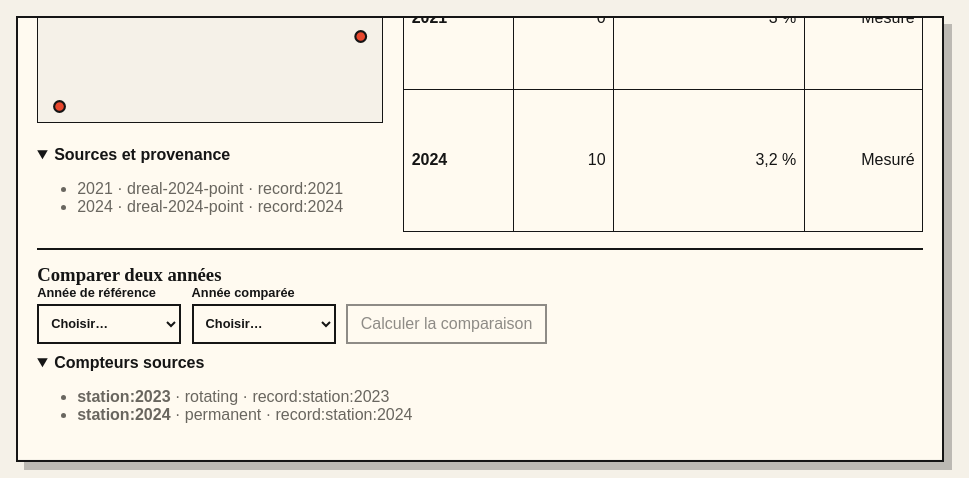
Test case: BottomSheet › reports a non-calculable percentage for a zero baseline
(page scrolled)
Select "2021" in the dropdown labelled "Année de référence" at (109, 324), box [37,304,181,344]
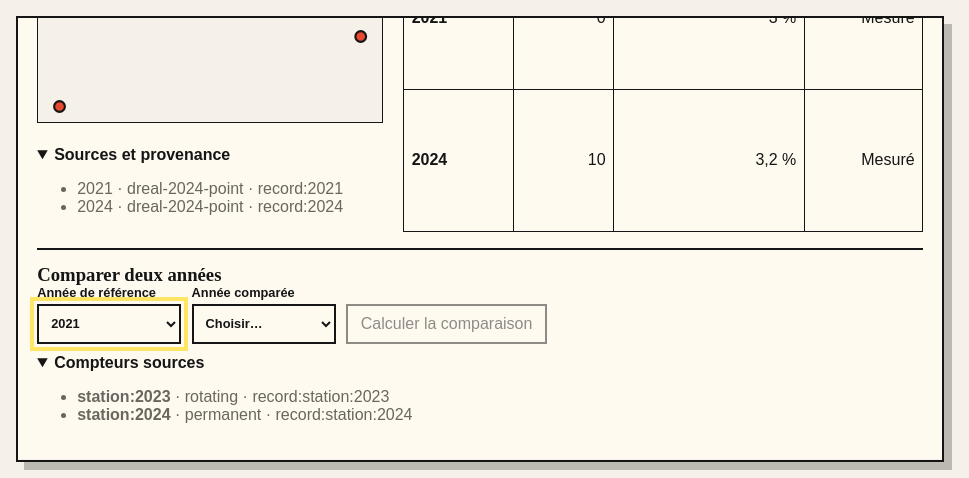
Select "2024" in the dropdown labelled "Année comparée" at (264, 324), box [192,304,336,344]
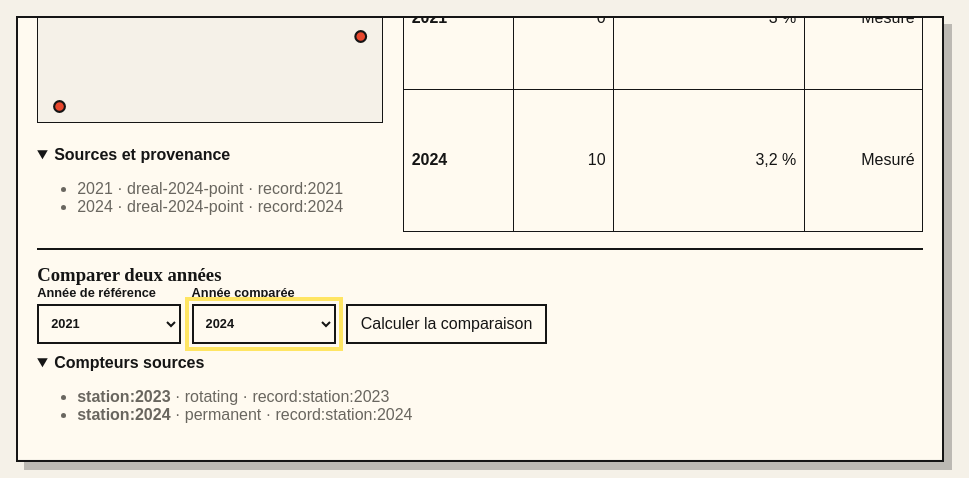
Click the button "Calculer la comparaison".
click(447, 324)  # box [346,304,547,344]
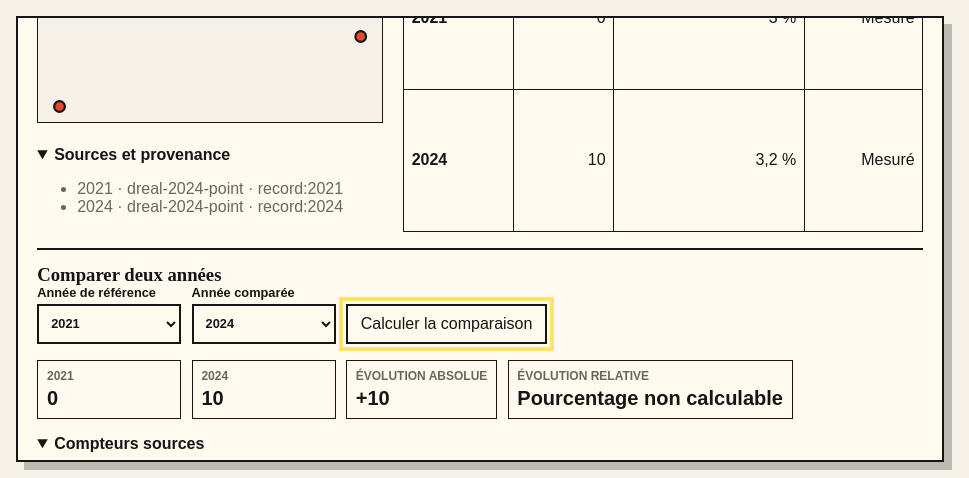
expect the text "+10" is shown: met, box [356,387,390,409]
expect the text "Pourcentage non calculable" is shown: met, box [517,387,783,410]
